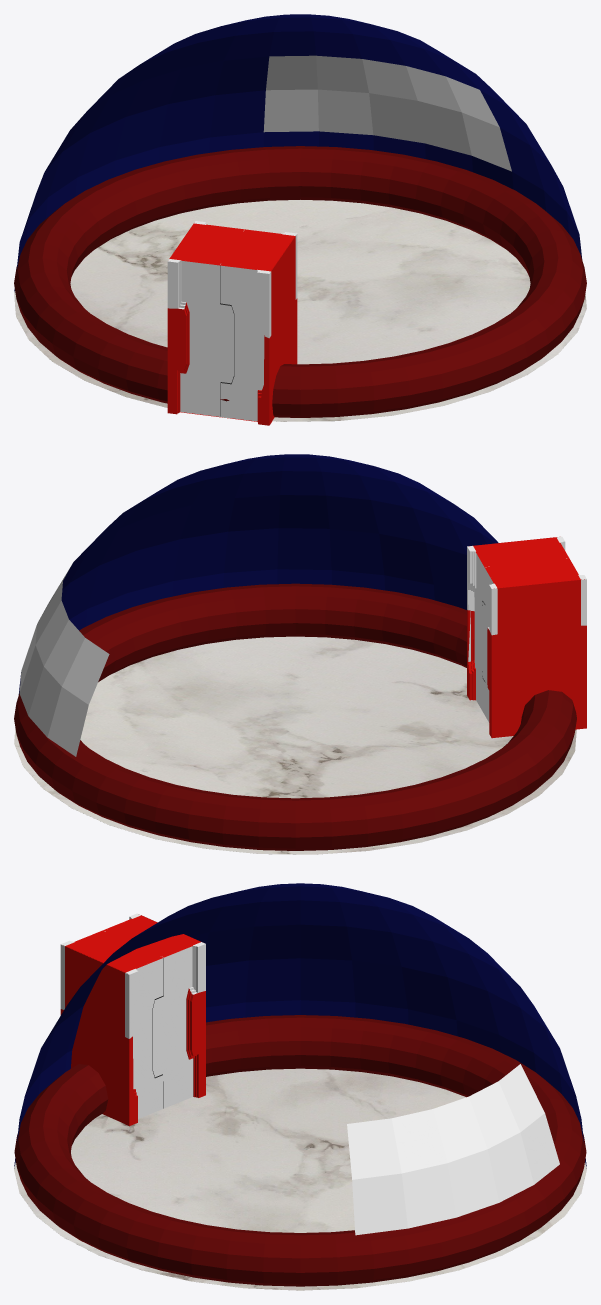
File: interior_nave.fbx
3 views of the same model, one above another, from view 1: azimuth 30°, elevation 25°; view 2: azimuth 150°, elevation 25°; view 3: azimuth 270°, elevation 25° (orthographic).
Visible parts, largest first — view 1: Torus.001, Chao, Parede, Porta, Vidro; view 2: Chao, Torus.001, Parede, Porta, Vidro; view 3: Torus.001, Parede, Chao, Vidro, Porta.
Boxes of the visible parts, x1=… form: Torus.001: x1=14, y1=146, x2=586, y2=417; Chao: x1=14, y1=200, x2=586, y2=421; Parede: x1=14, y1=14, x2=582, y2=291; Porta: x1=167, y1=221, x2=297, y2=425; Vidro: x1=263, y1=55, x2=511, y2=171; Chao: x1=14, y1=636, x2=576, y2=854; Torus.001: x1=14, y1=583, x2=576, y2=850; Parede: x1=18, y1=454, x2=498, y2=694; Porta: x1=467, y1=536, x2=586, y2=738; Vidro: x1=19, y1=566, x2=109, y2=756; Torus.001: x1=14, y1=1015, x2=586, y2=1286; Parede: x1=14, y1=883, x2=586, y2=1168; Chao: x1=14, y1=1068, x2=586, y2=1290; Vidro: x1=347, y1=1064, x2=559, y2=1235; Porta: x1=60, y1=913, x2=205, y2=1126.
Bounding box in the file's own units: 200 × 103 × 200.
Materials: 7 (1 with a texture image).
